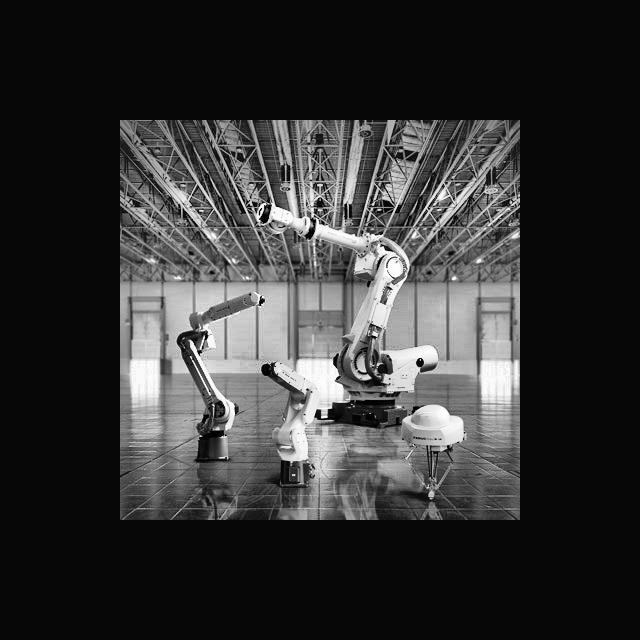robot: (248, 191, 438, 416), (175, 289, 261, 459), (256, 356, 333, 491)
